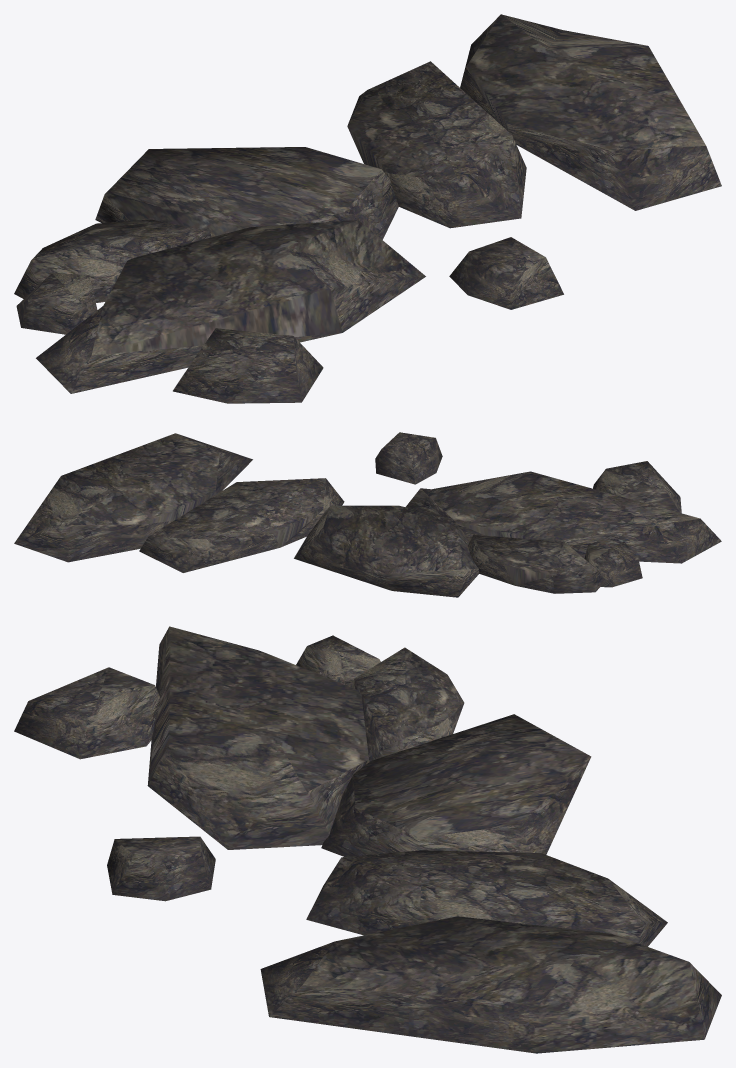
The model's file is environment_common_suishiban_002.FBX.
3 views of the same model, one above another, from view 1: azimuth 30°, elevation 25°; view 2: azimuth 150°, elevation 25°; view 3: azimuth 270°, elevation 25° (orthographic). The views are drawn at different scales.
Visible parts, largest first — view 1: environment_common_suishiban_002; view 2: environment_common_suishiban_002; view 3: environment_common_suishiban_002.
Part boxes in pixels (<box>): environment_common_suishiban_002: <box>14,14,721,403</box>; environment_common_suishiban_002: <box>14,432,721,597</box>; environment_common_suishiban_002: <box>14,626,721,1053</box>.
Bounding box in the file's own units: 47.7 × 2.43 × 34.96.
